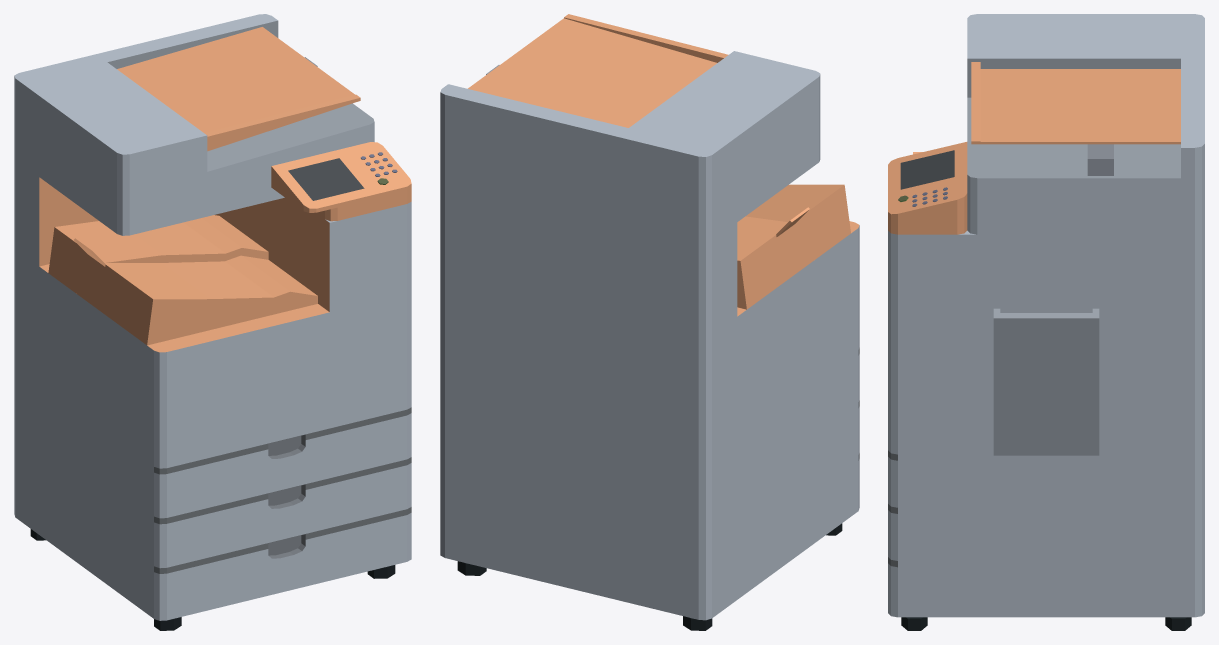
The model's file is NewOfficePrinter.fbx.
3 views of the same model, side by side, from view 1: azimuth 30°, elevation 25°; view 2: azimuth 150°, elevation 25°; view 3: azimuth 270°, elevation 25° (orthographic). The views are drawn at different scales.
Parts seen in each view (by area): view 1: Xerox_01; view 2: Xerox_01; view 3: Xerox_01.
Boxes of the visible parts, x1,y1,x2,y2 form: Xerox_01: (14, 14, 411, 630); Xerox_01: (440, 14, 859, 630); Xerox_01: (888, 14, 1204, 630).
Bounding box in the file's own units: 65.7 × 102 × 60.
